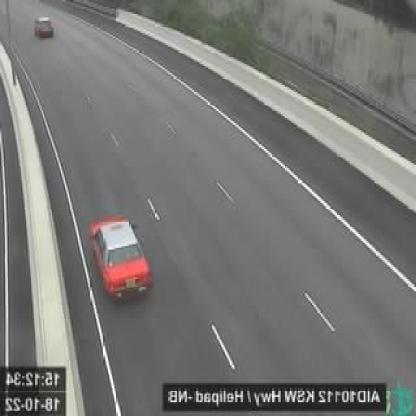Car: (87, 214, 157, 303), (32, 14, 53, 37)
